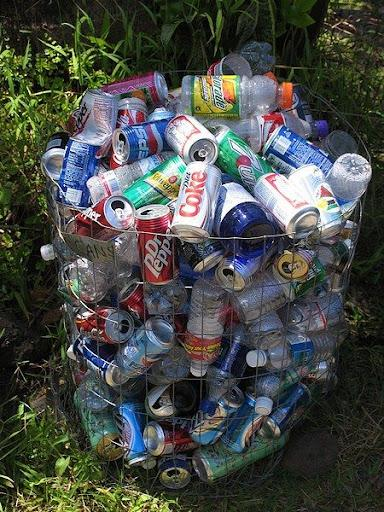lata: (245, 165, 325, 245), (257, 123, 336, 193), (197, 121, 272, 194), (106, 311, 182, 383), (61, 189, 141, 254), (182, 375, 248, 451), (63, 83, 130, 155), (158, 108, 227, 177), (286, 159, 349, 233), (105, 109, 181, 167), (170, 158, 226, 236), (101, 68, 172, 120), (133, 203, 177, 286), (53, 137, 102, 207), (139, 412, 194, 460), (37, 129, 67, 182), (116, 98, 147, 126)
